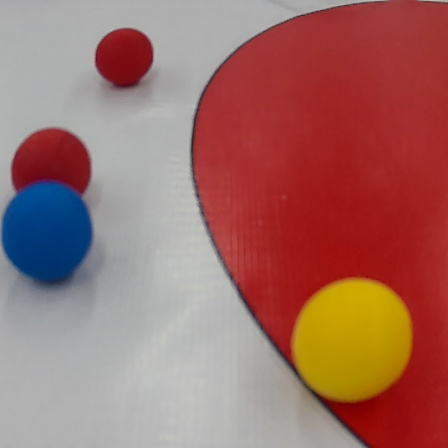blue: (5, 183, 91, 287)
red: (8, 123, 95, 199), (94, 27, 155, 86)
red_base: (185, 6, 448, 448)
yellow: (290, 276, 413, 405)
